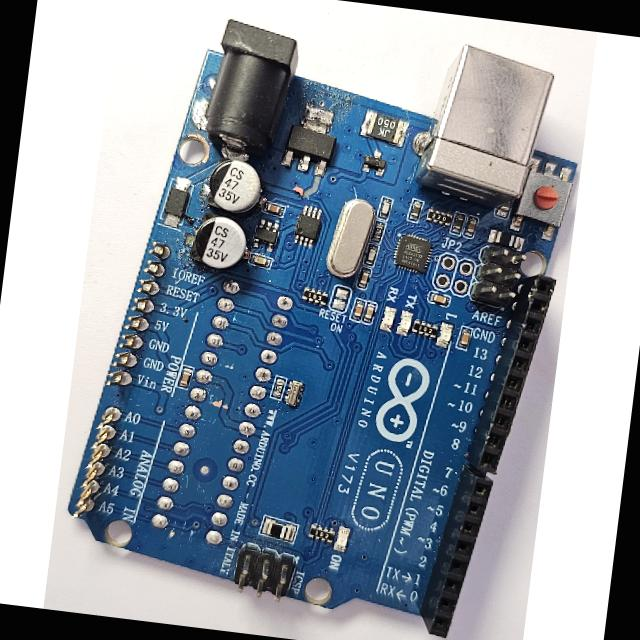missing_analog_pins: (60, 234, 181, 533)
missing_atmega: (138, 272, 302, 557)
